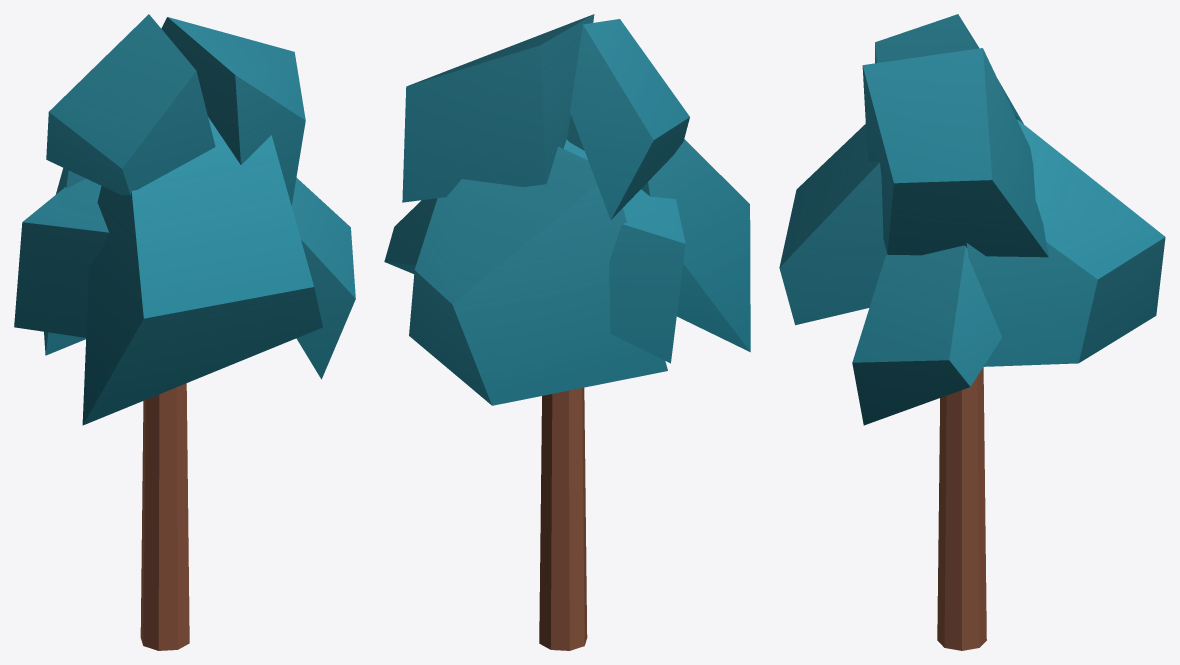
File: Tree_41_gradient_blue.fbx
The picture shows the model from 3 angles, left to right: view 1: azimuth 30°, elevation 25°; view 2: azimuth 150°, elevation 25°; view 3: azimuth 270°, elevation 25°; orthographic projection. The views are drawn at different scales.
Parts seen in each view (by area): view 1: Tree_41_gradient_blue; view 2: Tree_41_gradient_blue; view 3: Tree_41_gradient_blue.
Part boxes in pixels (box(x1,y1,x2,y2)): Tree_41_gradient_blue: box(14, 14, 355, 650); Tree_41_gradient_blue: box(384, 14, 750, 650); Tree_41_gradient_blue: box(779, 14, 1165, 650).
Size of the model in its own units: 120 by 229 by 130.
